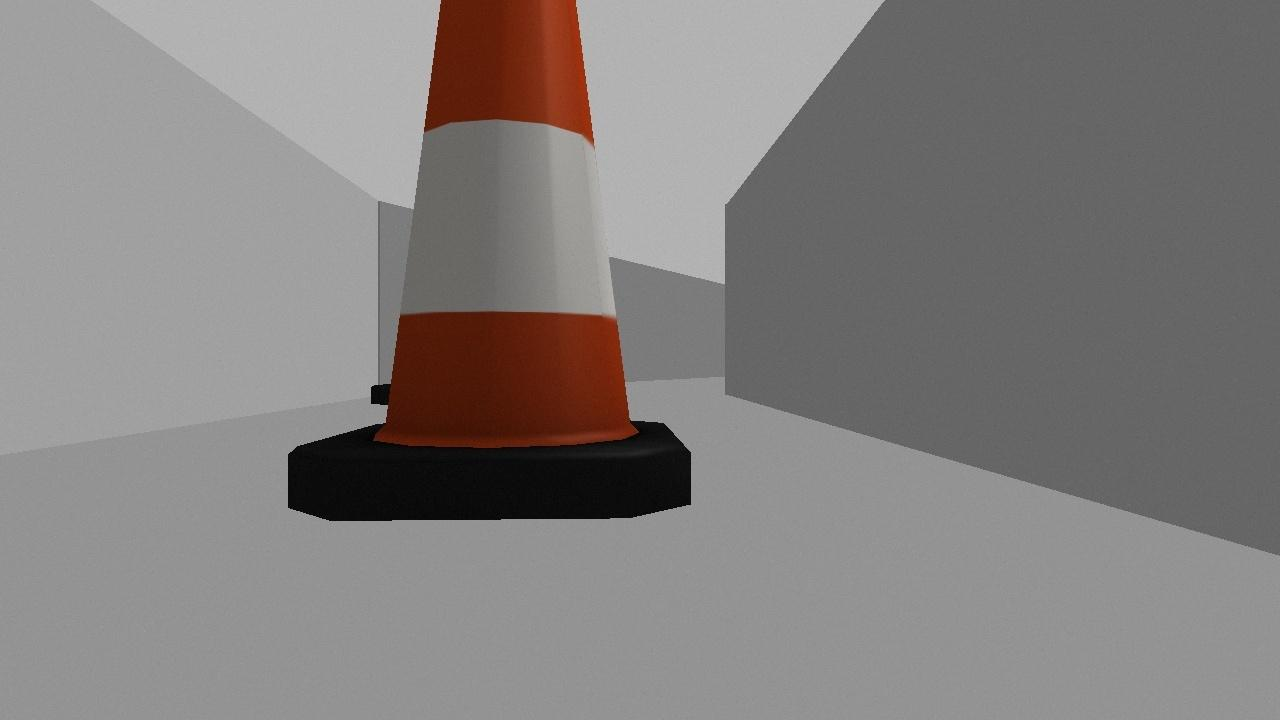cone_barrel: (286, 0, 691, 520)
